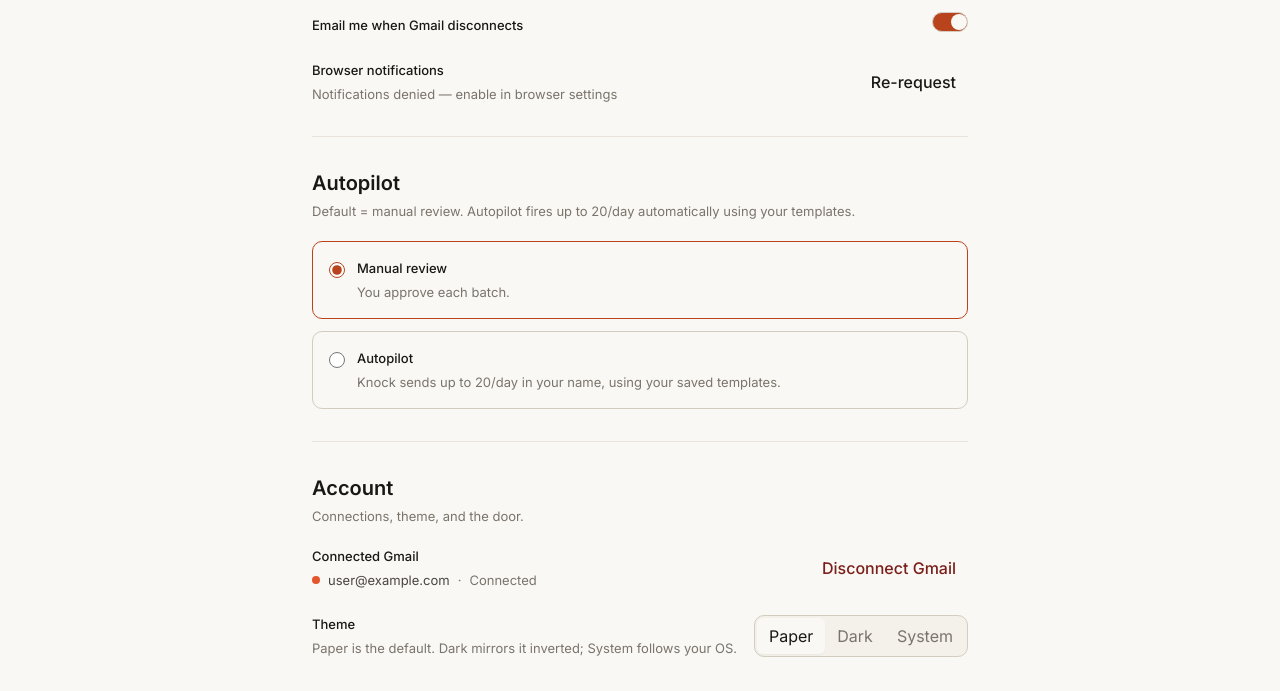
Scenario: PreferencesView — autopilot › opens confirm dialog when switching from manual to autopilot
(page scrolled)
Click the radio button labelled "Autopilot" at (337, 360), box [329,352,345,368]
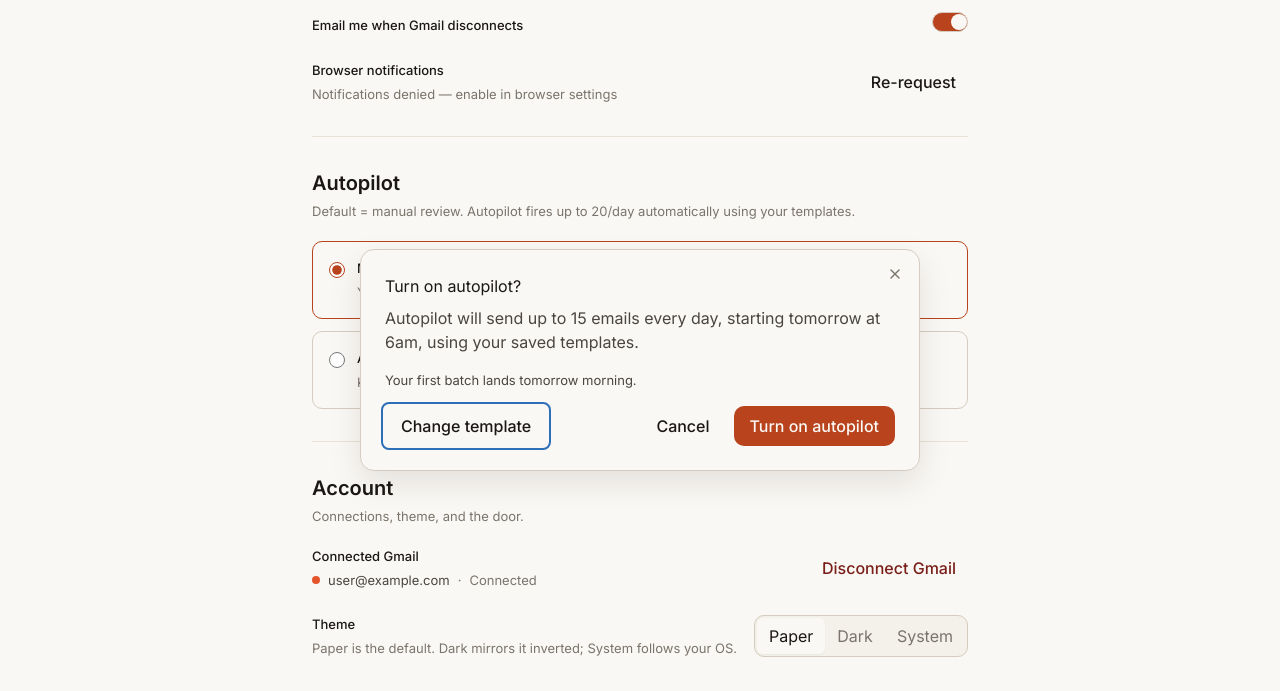
Now the heading "Turn on autopilot?" is shown, box [385,276,521,296]
